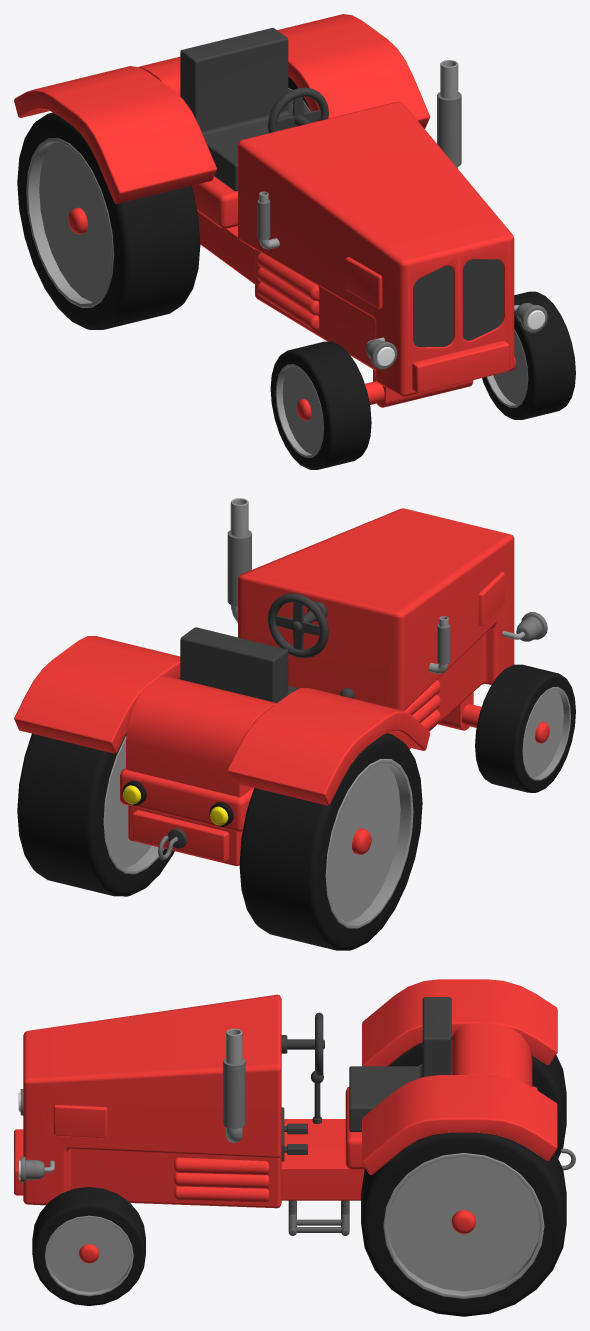
File: Farm_12_Tractor_1.glb
3 renders of one model, top to bottom at view 1: azimuth 30°, elevation 25°; view 2: azimuth 150°, elevation 25°; view 3: azimuth 270°, elevation 25°, orthographic. The views are drawn at different scales.
Parts seen in each view (by area): view 1: Farm_12_Tractor_1; view 2: Farm_12_Tractor_1; view 3: Farm_12_Tractor_1.
Part boxes in pixels (bbox=[...]): Farm_12_Tractor_1: bbox=[14, 14, 575, 469]; Farm_12_Tractor_1: bbox=[14, 498, 575, 950]; Farm_12_Tractor_1: bbox=[14, 979, 575, 1316].
Bounding box in the file's own units: 2.24 × 1.99 × 3.8.
1 material, 1 textured.
